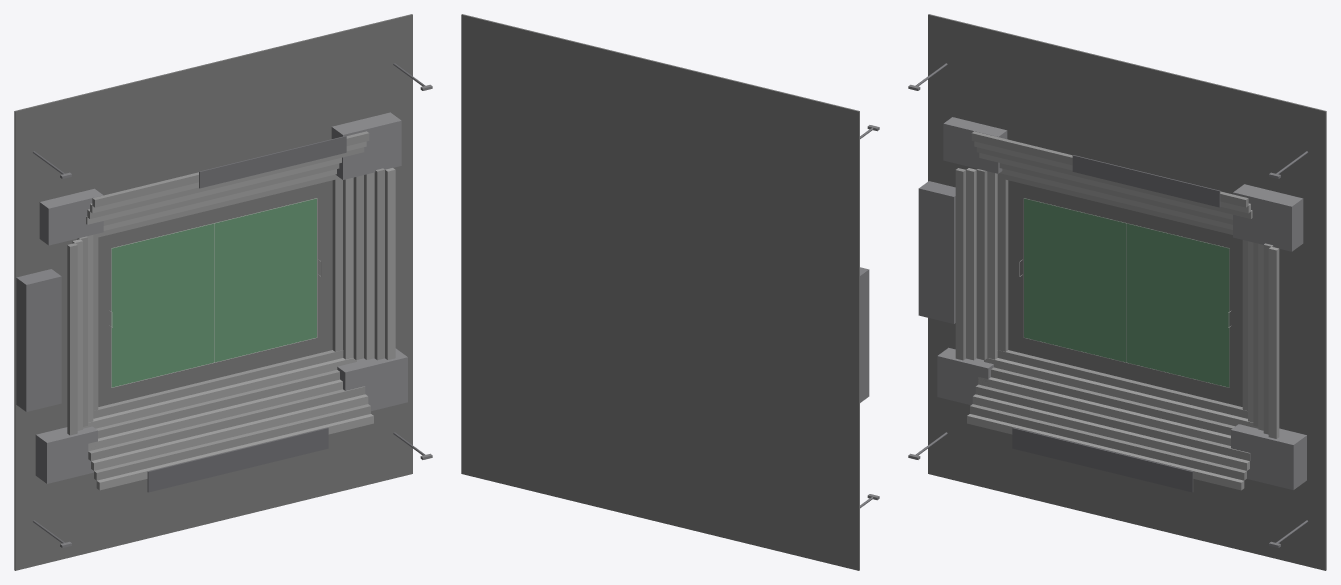
Rendered from stadium.glb.
3 renders of one model, left to right at view 1: azimuth 30°, elevation 25°; view 2: azimuth 150°, elevation 25°; view 3: azimuth 330°, elevation 25°, orthographic.
Parts seen in each view (by area): view 1: base, pitch, edificio_principal, cubierta_sur, tribuna_sur_6, tribuna_sur_7, esquina_NE, tribuna_sur_5, tribuna_sur_2, tribuna_sur_4, esquina_SW, esquina_SE (+23 smaller); view 2: base, edificio_principal; view 3: base, pitch, edificio_principal, cubierta_sur, esquina_SE, esquina_NE, tribuna_sur_6, tribuna_sur_7, tribuna_sur_5, tribuna_sur_2, tribuna_sur_4, tribuna_sur_1 (+23 smaller).
Boxes of the visible parts, bbox=[...] form: base: bbox=[14, 14, 412, 570]; pitch: bbox=[111, 198, 316, 387]; edificio_principal: bbox=[16, 269, 61, 411]; cubierta_sur: bbox=[147, 427, 328, 492]; tribuna_sur_6: bbox=[91, 394, 368, 470]; tribuna_sur_7: bbox=[94, 404, 370, 480]; esquina_NE: bbox=[331, 112, 401, 179]; tribuna_sur_5: bbox=[88, 386, 365, 460]; tribuna_sur_2: bbox=[83, 358, 356, 428]; tribuna_sur_4: bbox=[88, 379, 342, 451]; esquina_SW: bbox=[35, 426, 97, 483]; esquina_SE: bbox=[337, 348, 407, 411]; base: bbox=[461, 14, 859, 570]; edificio_principal: bbox=[860, 267, 869, 402]; base: bbox=[928, 14, 1326, 570]; pitch: bbox=[1024, 198, 1229, 387]; edificio_principal: bbox=[918, 181, 955, 323]; cubierta_sur: bbox=[1012, 427, 1193, 492]; esquina_SE: bbox=[1231, 424, 1306, 490]; esquina_NE: bbox=[1233, 184, 1303, 251]; tribuna_sur_6: bbox=[972, 394, 1249, 470]; tribuna_sur_7: bbox=[970, 404, 1246, 480]; tribuna_sur_5: bbox=[975, 384, 1250, 460]; tribuna_sur_2: bbox=[984, 358, 1258, 428]; tribuna_sur_4: bbox=[978, 377, 1230, 445]; tribuna_sur_1: bbox=[997, 350, 1247, 418].
Size of the model in its own units: 203 by 224 by 30.3.
